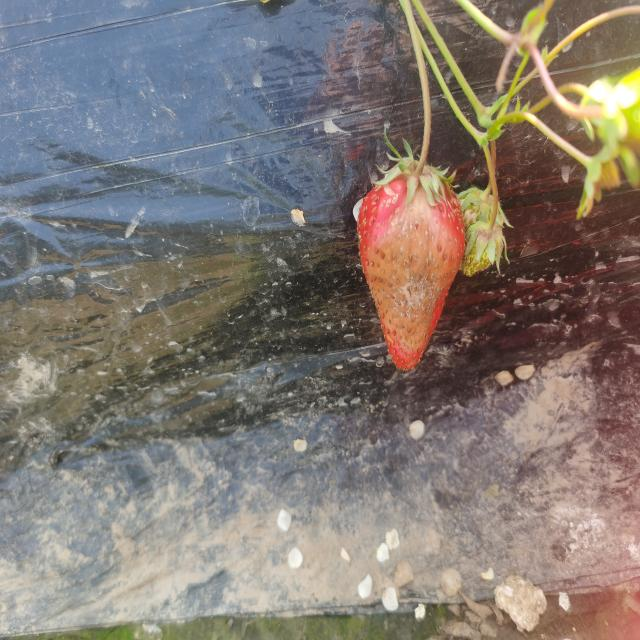stem: (416, 109, 430, 175)
strawberry: (357, 164, 464, 370)
